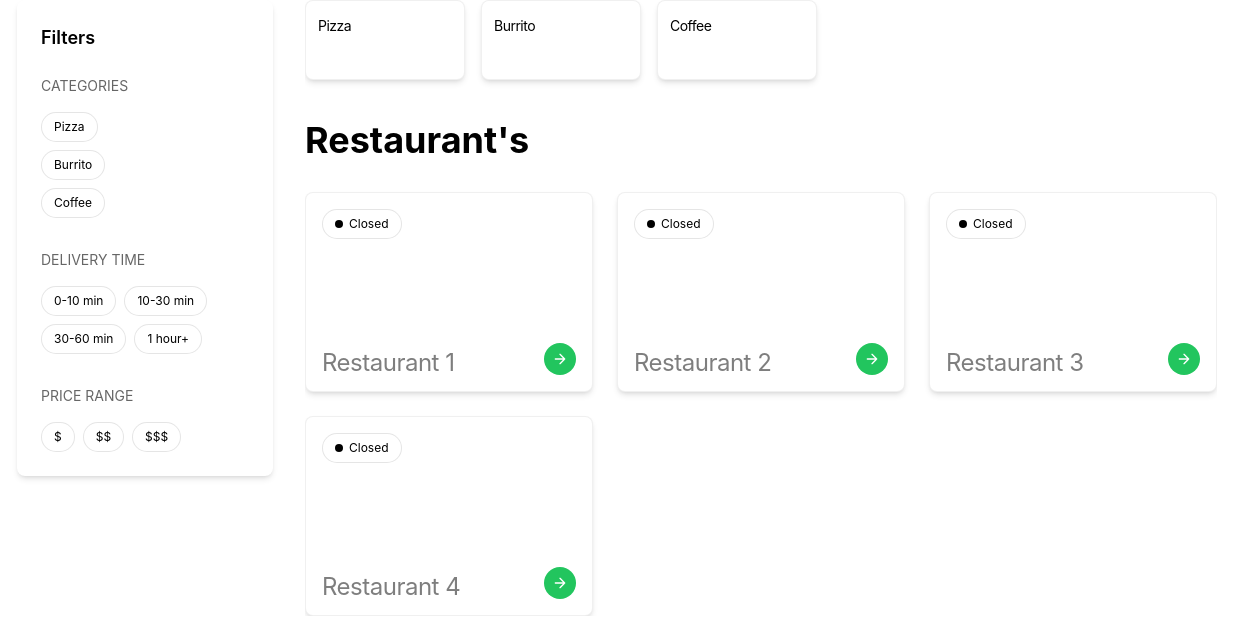
RestaurantList › should allow selecting multiple category filters
expect the button "Burrito" is shown: met, box [41,150,105,180]
Click the button "Pizza": (69, 127) [41,112,98,142]
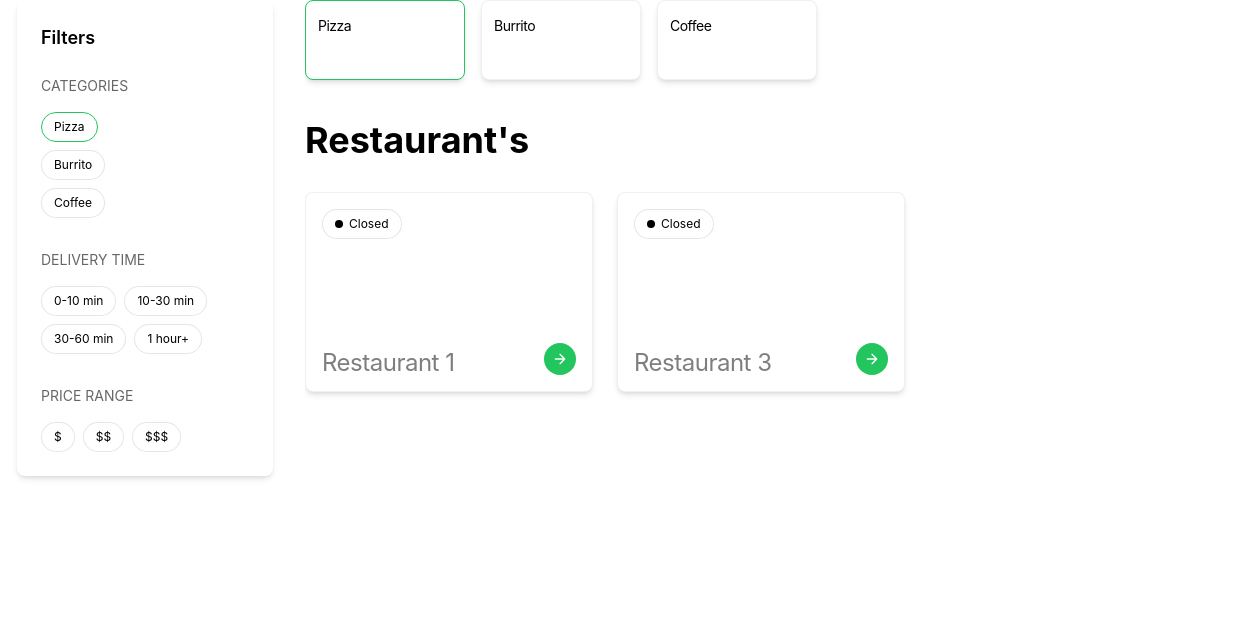
Click the button "Burrito": (73, 165) [41,150,105,180]
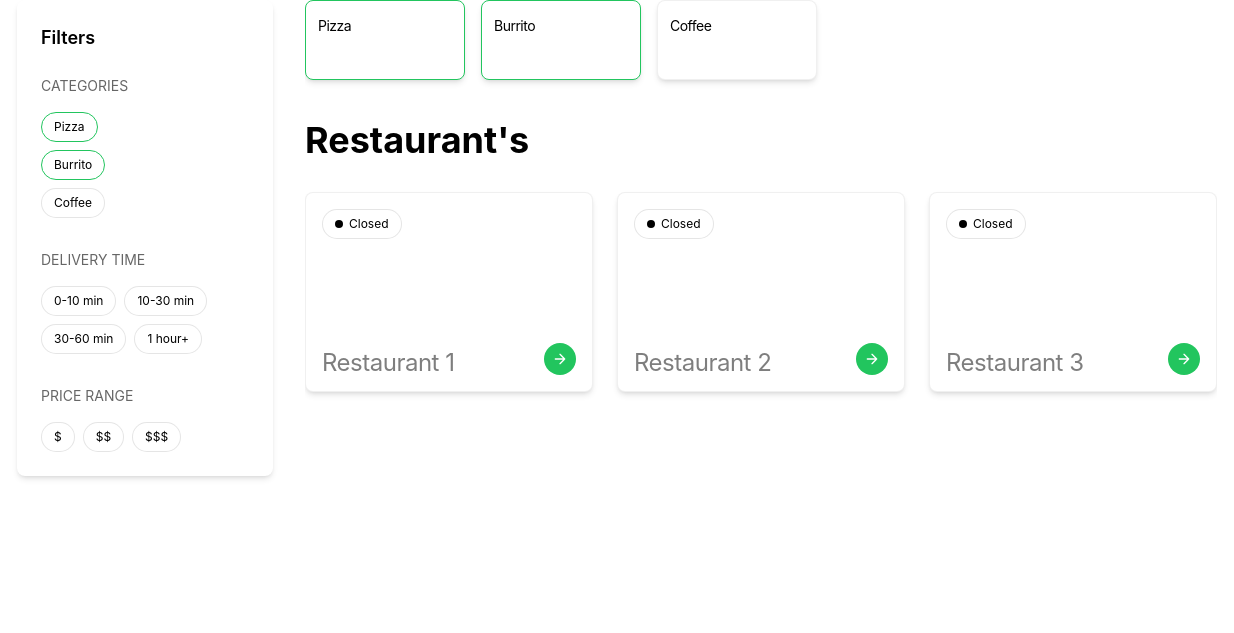
expect the heading "Restaurant 1" is shown: met, box [322,348,454,377]
expect the heading "Restaurant 2" is shown: met, box [634,348,771,377]
